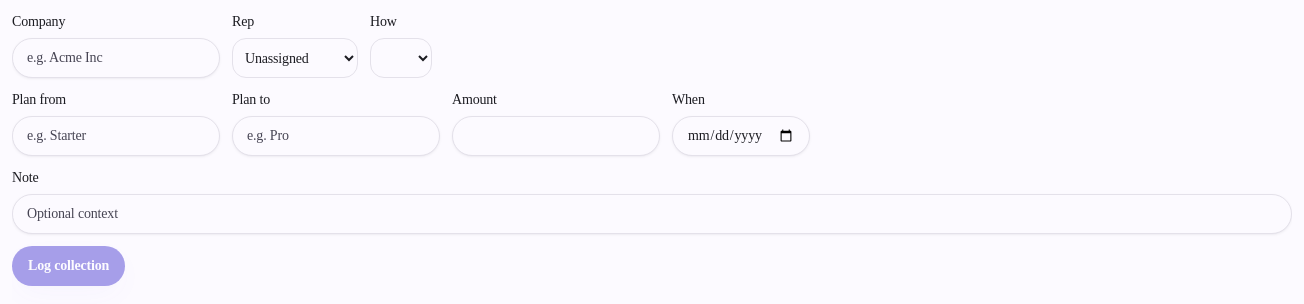
Test case: CreateRepCollectionEntryForm (manual) › disables submit until company, amount, and occurredAt are filled
The width and height of the screenshot is (1304, 304).
Expected: the button "Log collection" is disabled, [12,246,125,286]
Type "Acme Inc" into the field labelled "Company" at (116, 58), box [12,38,220,78]
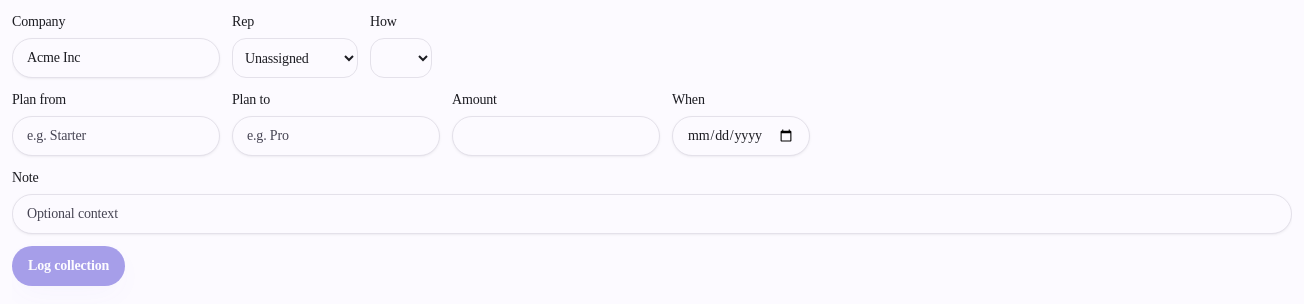
Expected: the button "Log collection" is disabled, [12,246,125,286]
Type "500" into the number field labelled "Amount" at (556, 136), box [452,116,660,156]
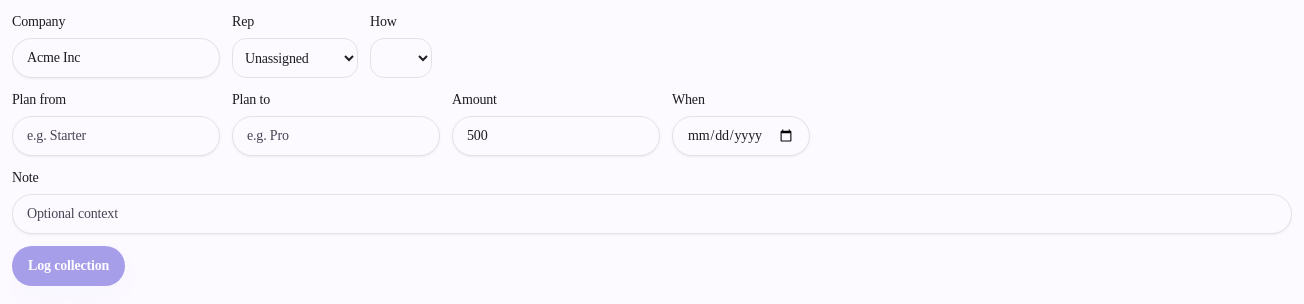
Expected: the button "Log collection" is disabled, [12,246,125,286]
Type "2026-08-24" into the date field labelled "When" at (741, 136), box [672,116,810,156]
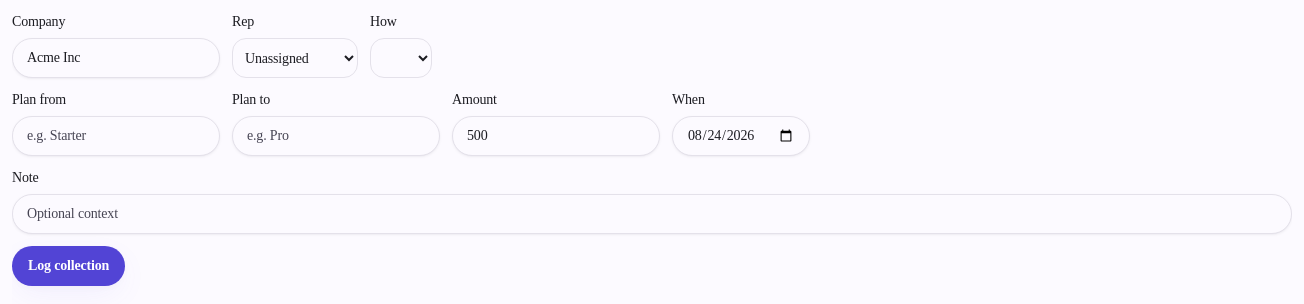
Expected: the button "Log collection" is enabled, [12,246,125,286]
